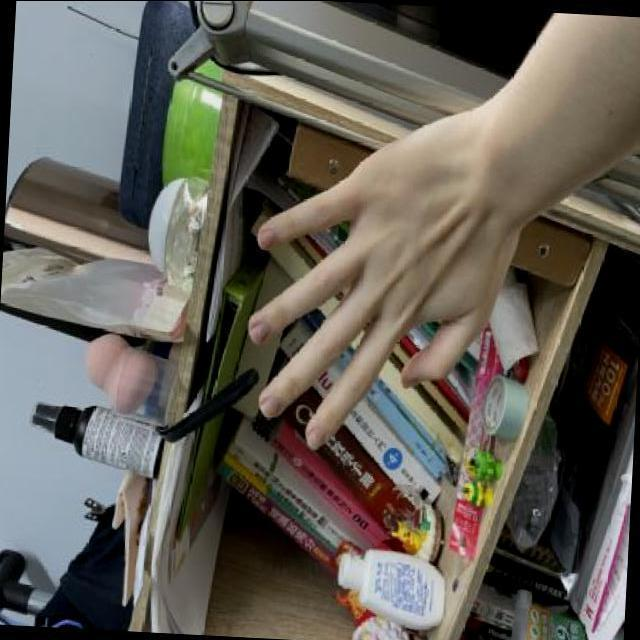hand: (244, 97, 534, 450)
